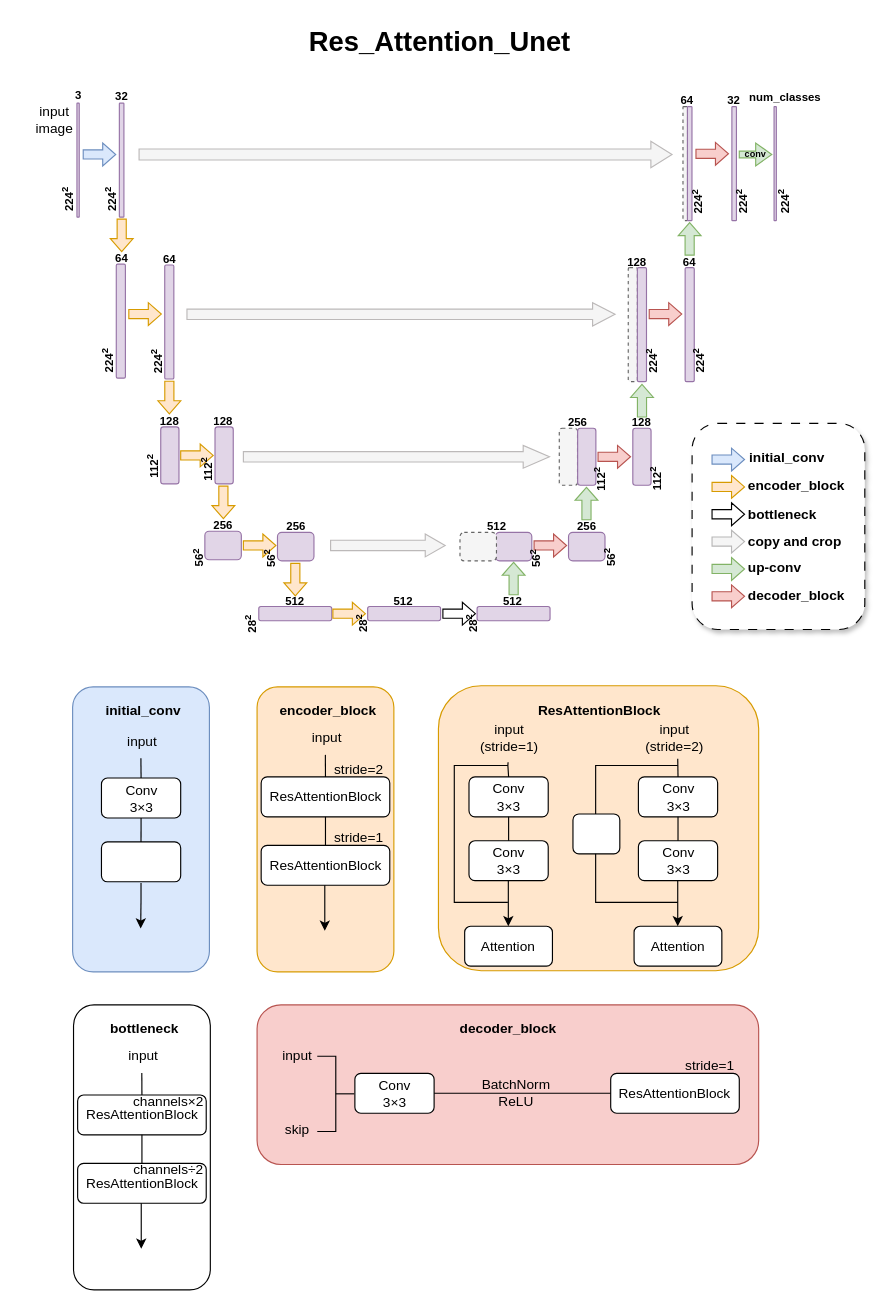
Image size: 891x1310. Some labels were removed from this diagram. Each missing label, with the centre of its shape:
BN: the point at 140,861
Conv 1×1: the point at 596,833
